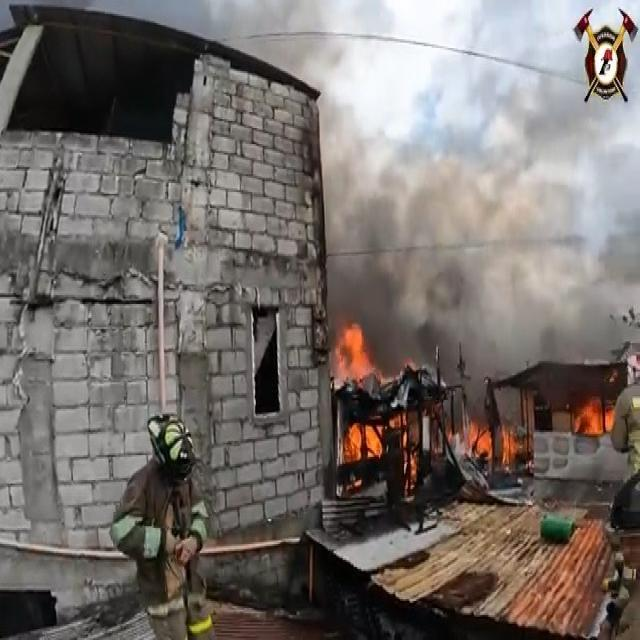Fire: (330, 316, 408, 385), (450, 416, 523, 468), (392, 410, 419, 492), (336, 418, 386, 462), (572, 391, 617, 438)
Smoke: (322, 188, 486, 382)
